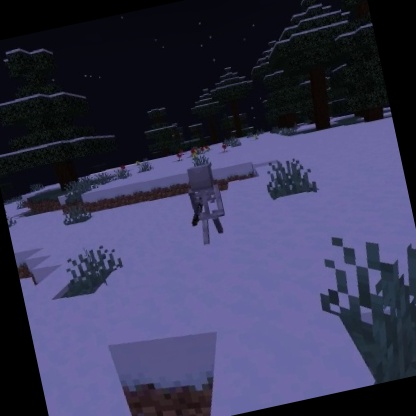skeleton: (177, 158, 234, 249)
